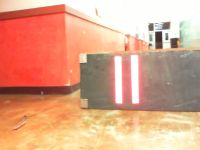switch: (130, 54, 140, 105), (114, 55, 123, 104)
